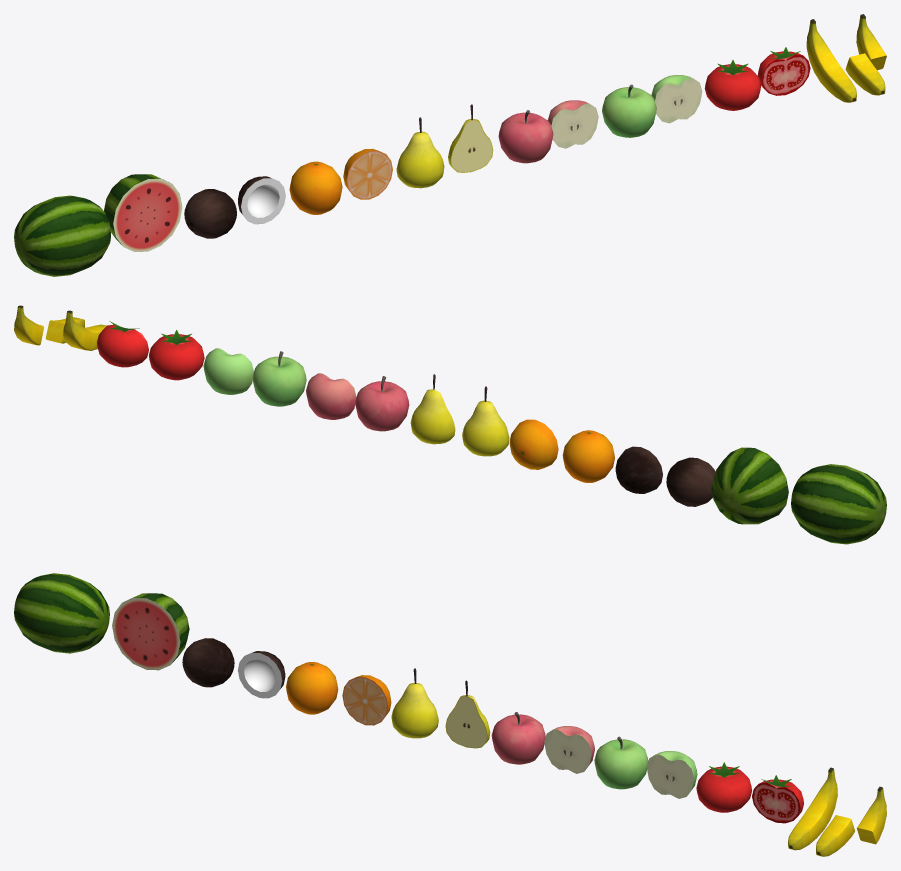
Rendered from low-poly_stylized_fruits_collection.glb.
3 renders of one model, top to bottom at view 1: azimuth 30°, elevation 25°; view 2: azimuth 150°, elevation 25°; view 3: azimuth 330°, elevation 25°, orthographic.
Parts seen in each view (by area): view 1: Watermelon, WatermelonSlice, RedApple, GreenApple, Orange, Tomato, Coconut, Pear, OrangeSlice, GreenAppleSlice, RedAppleSlice, TomatoSlice (+5 smaller); view 2: Watermelon, WatermelonSlice, RedApple, GreenApple, Orange, Tomato, Pear, OrangeSlice, Coconut, RedAppleSlice, GreenAppleSlice, PearSlice (+4 smaller); view 3: Watermelon, WatermelonSlice, RedApple, GreenApple, Orange, Tomato, Coconut, Pear, OrangeSlice, GreenAppleSlice, RedAppleSlice, TomatoSlice (+5 smaller).
Part boxes in pixels (x1,y1,x2,y2): Watermelon: (14, 195, 110, 276); WatermelonSlice: (104, 174, 182, 251); RedApple: (498, 110, 553, 163); GreenApple: (602, 84, 656, 137); Orange: (289, 161, 342, 214); Tomato: (704, 60, 761, 110); Coconut: (184, 189, 236, 238); Pear: (396, 117, 444, 188); OrangeSlice: (343, 148, 392, 199); GreenAppleSlice: (651, 75, 702, 123); RedAppleSlice: (547, 100, 598, 148); TomatoSlice: (757, 47, 810, 95); Watermelon: (791, 464, 886, 544); WatermelonSlice: (711, 447, 788, 524); RedApple: (355, 376, 409, 431); GreenApple: (252, 351, 306, 406); Orange: (562, 430, 614, 482); Tomato: (149, 330, 204, 380); Pear: (462, 386, 509, 456); OrangeSlice: (509, 419, 558, 469); Coconut: (666, 457, 715, 506); RedAppleSlice: (306, 373, 356, 419); GreenAppleSlice: (203, 348, 253, 394); PearSlice: (410, 374, 455, 444); Watermelon: (14, 573, 109, 653); WatermelonSlice: (112, 593, 189, 670); RedApple: (491, 712, 545, 764); GreenApple: (594, 736, 648, 789); Orange: (286, 662, 338, 714); Tomato: (696, 762, 751, 812); Coconut: (182, 638, 234, 687); Pear: (391, 668, 438, 738); OrangeSlice: (342, 675, 391, 725); GreenAppleSlice: (646, 751, 697, 798); RedAppleSlice: (544, 726, 594, 773); TomatoSlice: (752, 775, 803, 823).
Bounding box in the file's own units: 23.4 × 1.92 × 2.45.
Materials: 15 (15 with a texture image).
